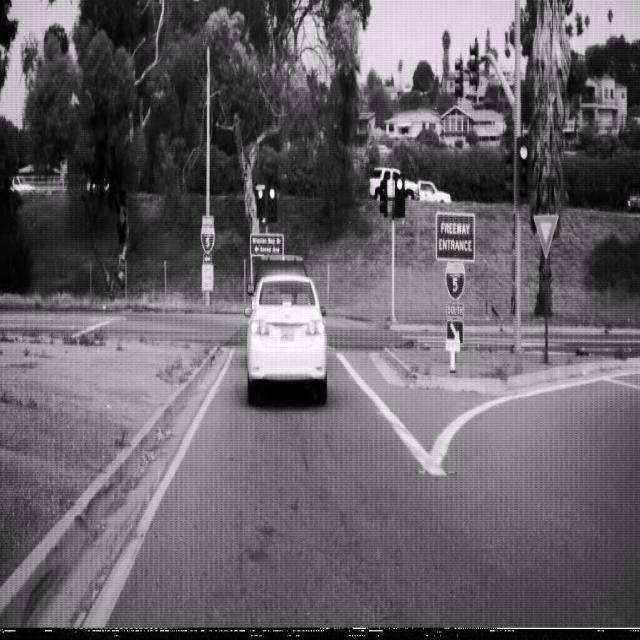yield: (532, 212, 560, 259)
